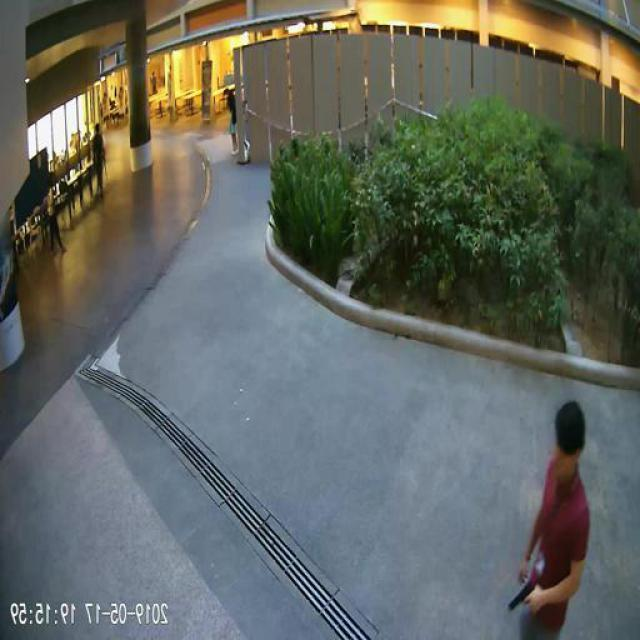Gun: (510, 578, 539, 612)
